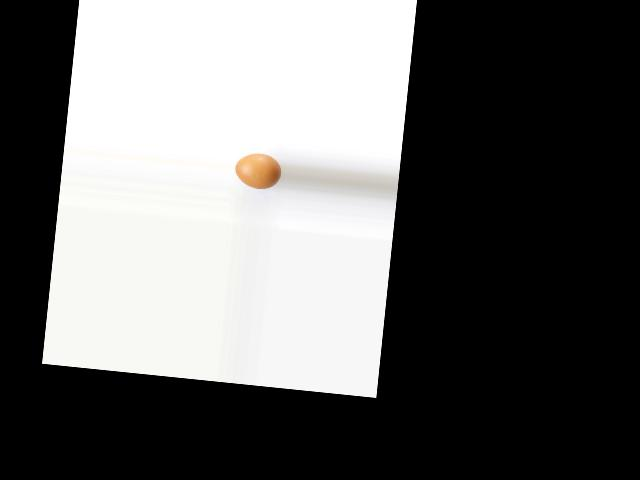egg: (233, 152, 282, 191)
